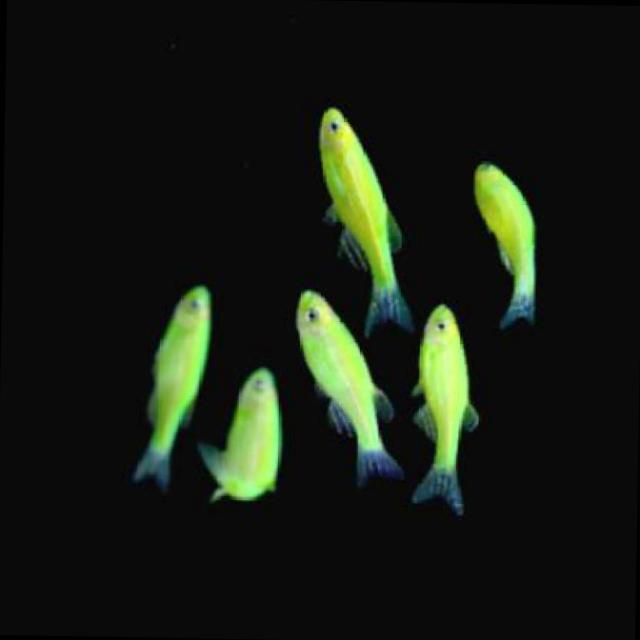ZebraFish: (316, 103, 420, 330), (293, 290, 410, 480), (414, 305, 482, 514)
